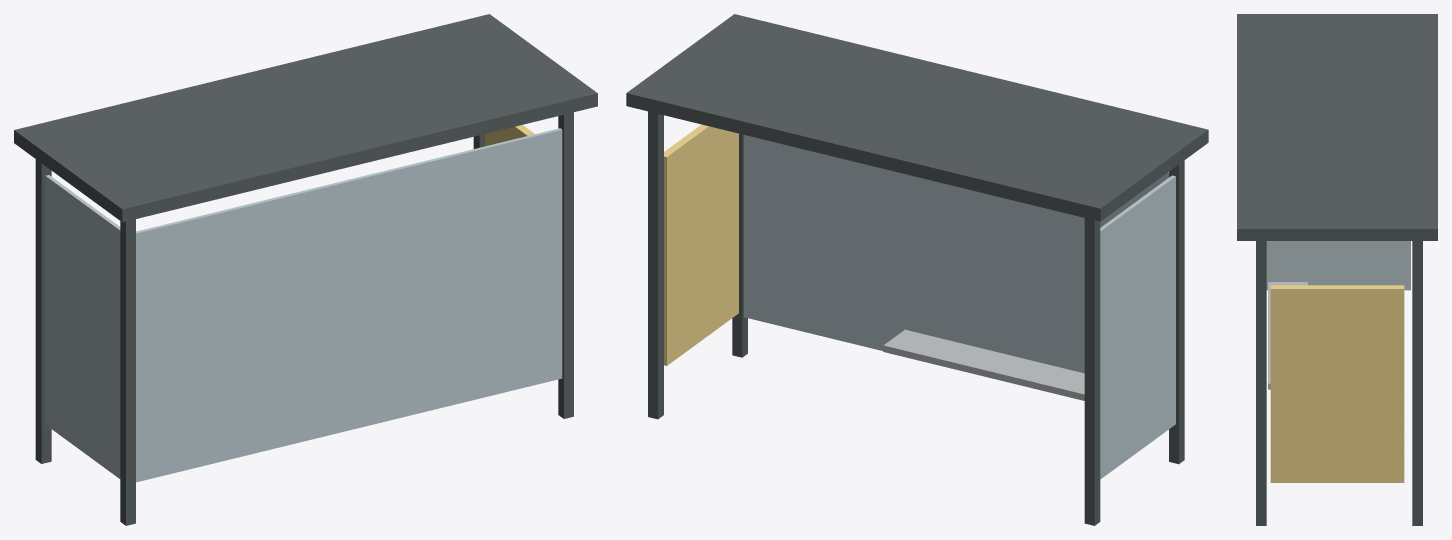
File: bus_shelter.glb
The picture shows the model from 3 angles, left to right: view 1: azimuth 30°, elevation 25°; view 2: azimuth 150°, elevation 25°; view 3: azimuth 270°, elevation 25°; orthographic projection. The views are drawn at different scales.
Parts seen in each view (by area): view 1: bus_shelter; view 2: bus_shelter; view 3: bus_shelter.
Boxes of the visible parts, x1,y1,x2,y2 form: bus_shelter: (14, 14, 597, 525); bus_shelter: (626, 14, 1208, 525); bus_shelter: (1237, 14, 1437, 525).
Size of the model in its own units: 3.8 by 2.5 by 1.5.
